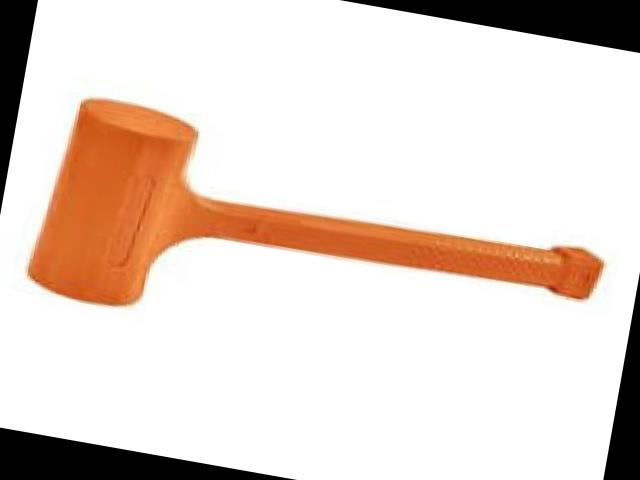hammer: (17, 88, 614, 390)
